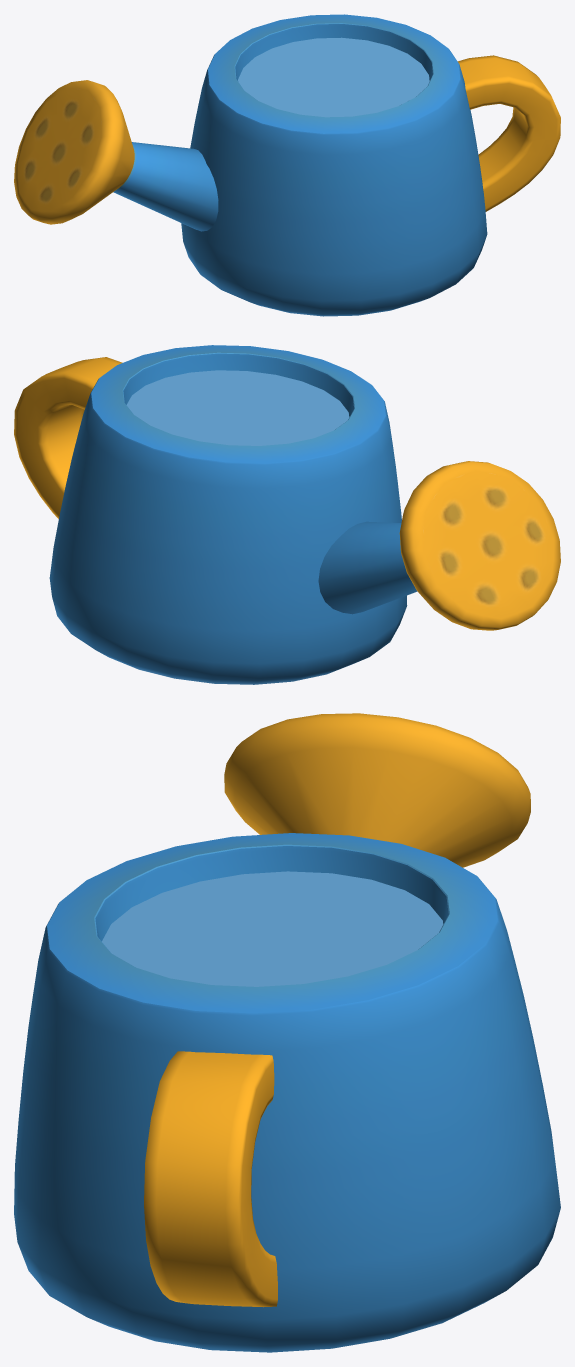
File: WateringCan-Simple.fbx
3 renders of one model, top to bottom at view 1: azimuth 30°, elevation 25°; view 2: azimuth 150°, elevation 25°; view 3: azimuth 270°, elevation 25°, orthographic. The views are drawn at different scales.
Visible parts, largest first — view 1: WateringCan-Simple; view 2: WateringCan-Simple; view 3: WateringCan-Simple.
Part boxes in pixels (box(x1,y1,x2,y2)): WateringCan-Simple: box(14, 14, 560, 316); WateringCan-Simple: box(14, 345, 560, 684); WateringCan-Simple: box(14, 713, 560, 1352).
Size of the model in its own units: 17.97 by 7.49 by 9.9.
